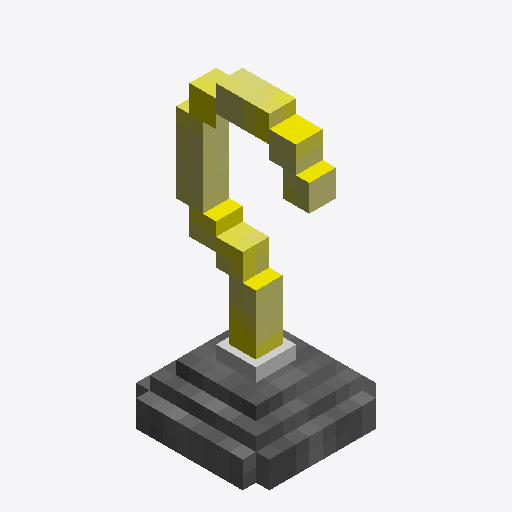
Isometric view (azimuth 45°, elevation 35.3°) of a Minecraft model made of 15 cuboids, textured from the same repository.
Visible parts, largest first — element 1, element 2, element 12, element 14, element 5, element 4, element 9, element 6, element 10, element 7, element 3, element 11 (+1 smaller).
Part boxes in pixels (bbox=[...]): element 1: bbox=[150, 360, 361, 451]; element 2: bbox=[176, 330, 335, 420]; element 12: bbox=[256, 390, 375, 489]; element 14: bbox=[136, 390, 255, 489]; element 5: bbox=[176, 99, 228, 213]; element 4: bbox=[229, 268, 282, 358]; element 9: bbox=[216, 68, 295, 143]; element 6: bbox=[269, 114, 322, 174]; element 10: bbox=[216, 222, 268, 282]; element 7: bbox=[283, 160, 335, 213]; element 3: bbox=[216, 337, 295, 382]; element 11: bbox=[189, 198, 242, 251].
Size of the model in its own units: 5 by 10.75 by 5.